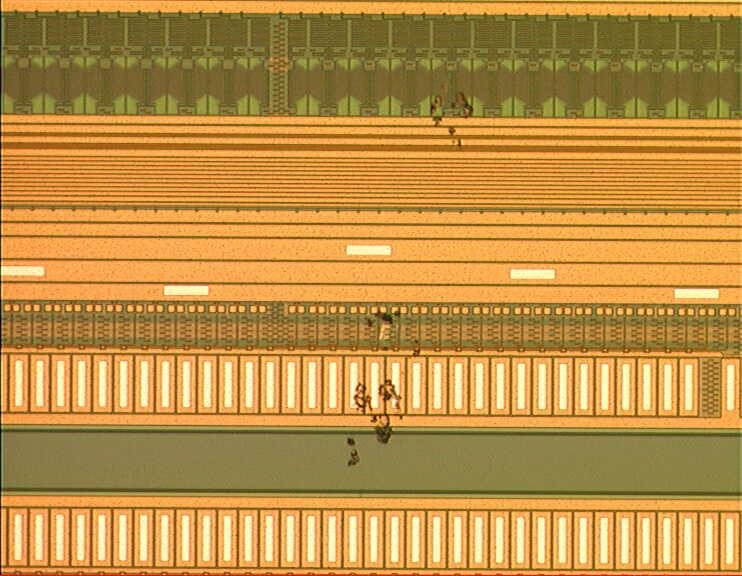SCRATCH: (331, 80, 488, 476)
